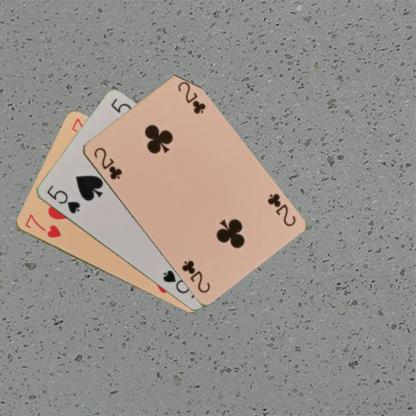2c: (90, 144, 124, 181), (264, 190, 297, 228)
5s: (43, 183, 82, 215)
7h: (22, 211, 62, 240)
